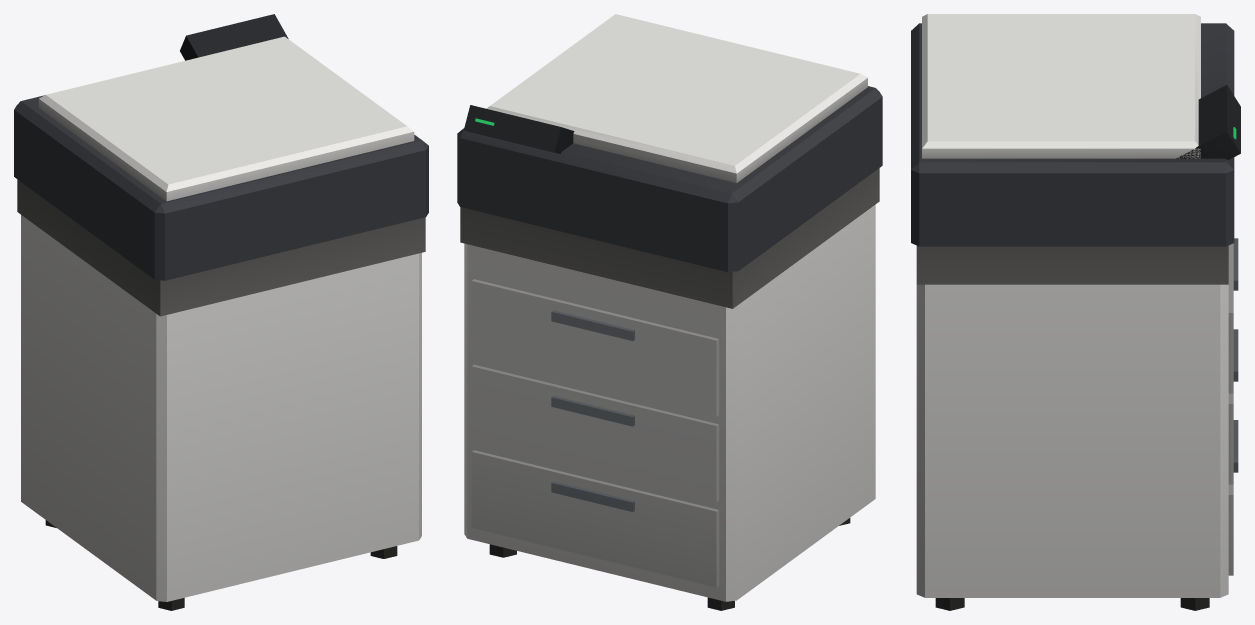
File: printer_01.glb
The picture shows the model from 3 angles, left to right: view 1: azimuth 30°, elevation 25°; view 2: azimuth 150°, elevation 25°; view 3: azimuth 270°, elevation 25°; orthographic projection. The views are drawn at different scales.
Parts seen in each view (by area): view 1: printer_01_mesh; view 2: printer_01_mesh; view 3: printer_01_mesh.
Boxes of the visible parts, <box> form: printer_01_mesh: <box>14,14,428,610</box>; printer_01_mesh: <box>457,14,882,610</box>; printer_01_mesh: <box>911,14,1240,610</box>.
Bounding box in the file's own units: 0.62 × 0.9533 × 0.5919.
2 materials, 2 textured.
